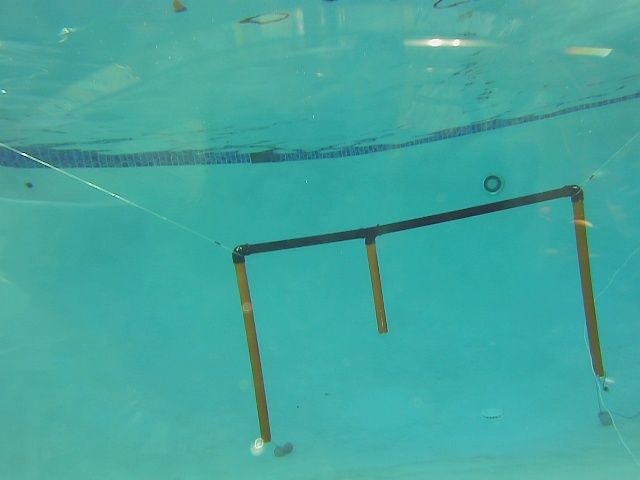Gate: (230, 254, 276, 444), (570, 194, 608, 383), (363, 237, 391, 333)
